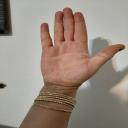OpenPalm: (39, 8, 126, 89)
